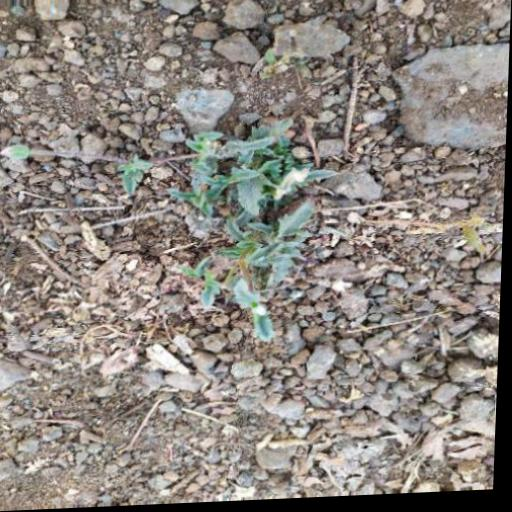weed: (122, 93, 342, 398)
